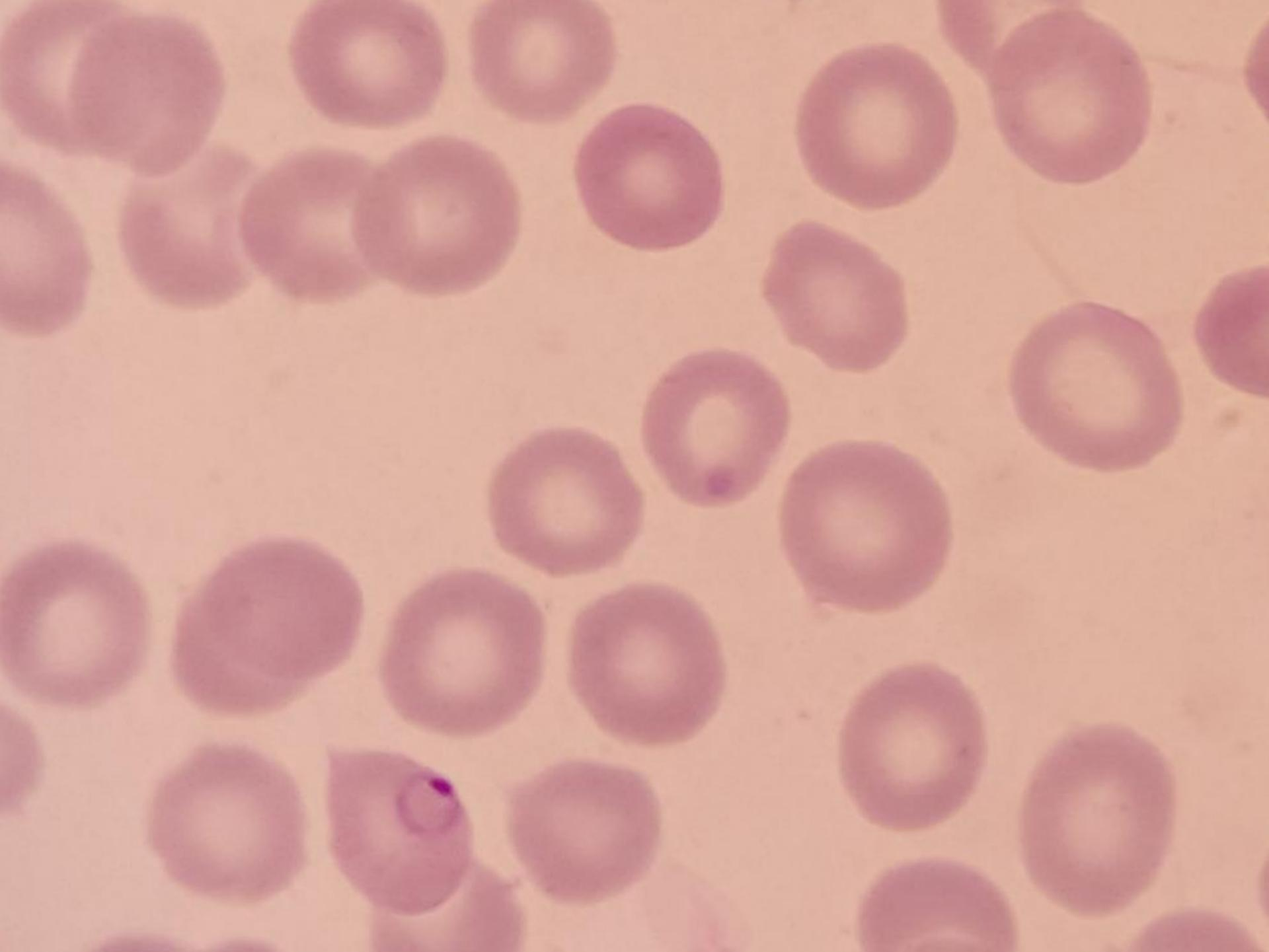Infected: (319, 747, 473, 912)
Uninfected: (1006, 301, 1182, 472), (780, 436, 949, 612), (1019, 726, 1170, 912), (986, 14, 1150, 182), (793, 45, 956, 208), (377, 572, 543, 731), (238, 147, 406, 304), (355, 134, 518, 295), (565, 585, 724, 747), (66, 14, 226, 172), (834, 663, 982, 831), (0, 539, 148, 706), (145, 744, 309, 894), (122, 149, 272, 308), (487, 425, 645, 573), (644, 350, 790, 505), (202, 544, 362, 682), (575, 101, 723, 250), (509, 763, 661, 903), (0, 0, 139, 153), (760, 222, 903, 369), (294, 0, 448, 129), (469, 0, 611, 118)
